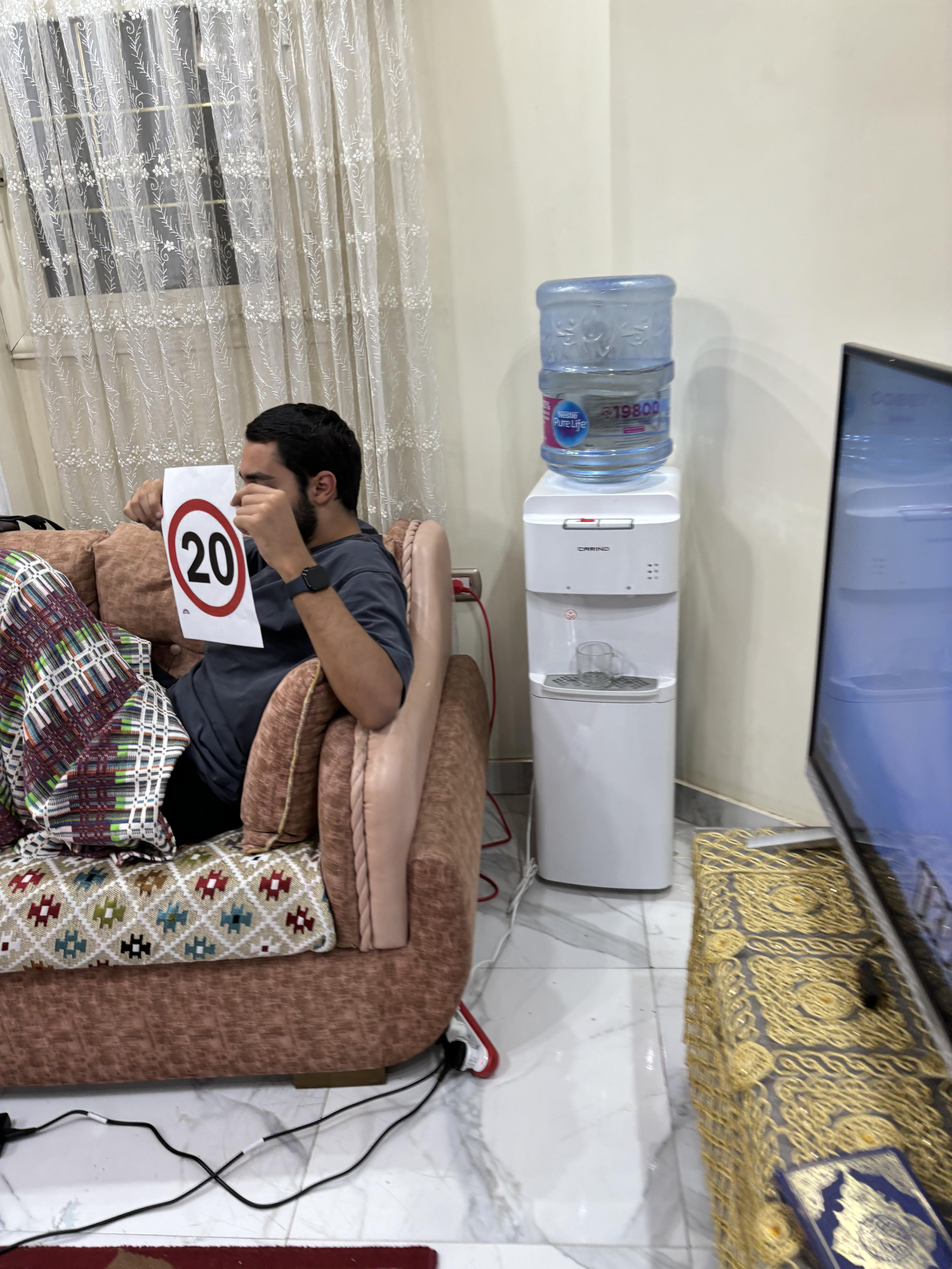20-Speed: (169, 507, 244, 609)
